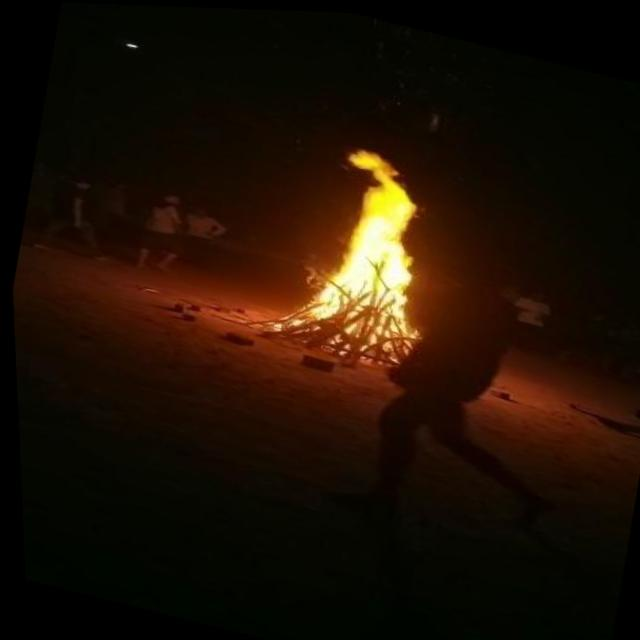fire: (262, 121, 462, 361)
